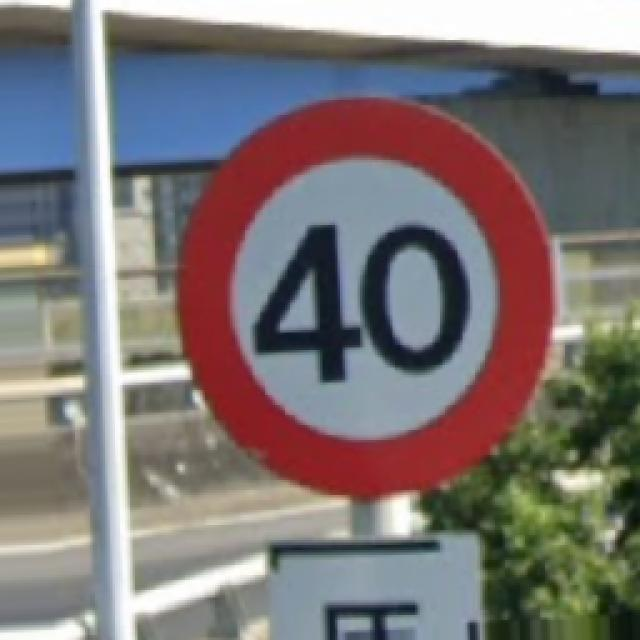Speed Limit -40-: (180, 100, 548, 492)
